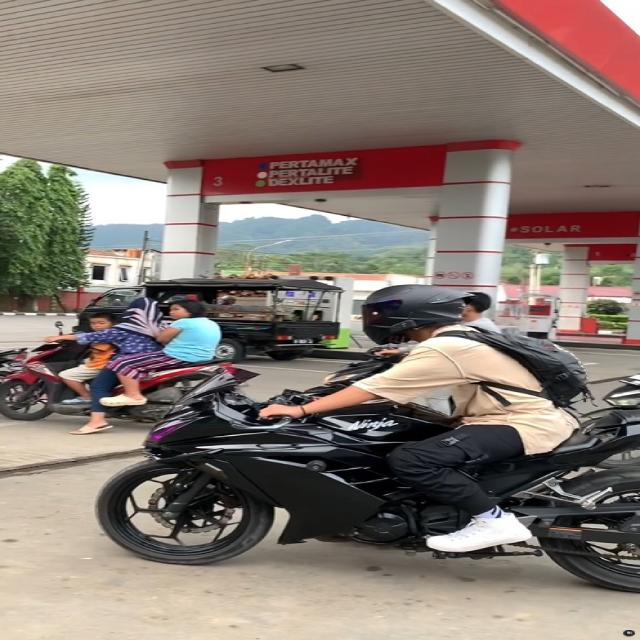helmet: (356, 281, 478, 348)
